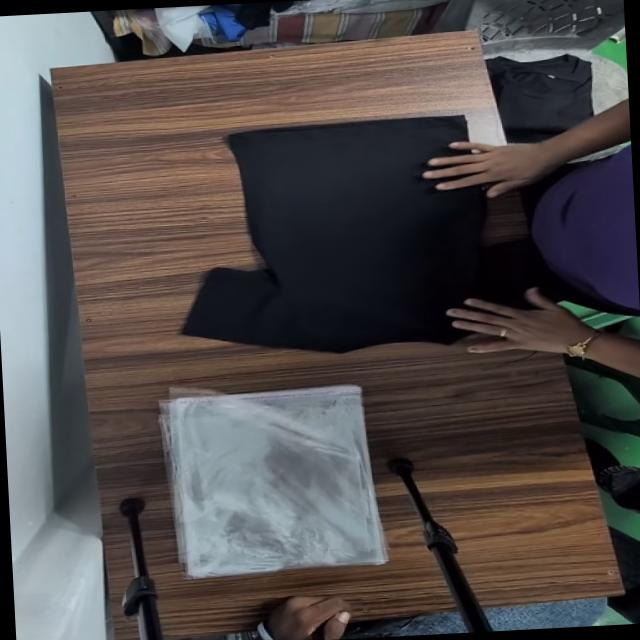new-garment: (184, 116, 484, 352)
